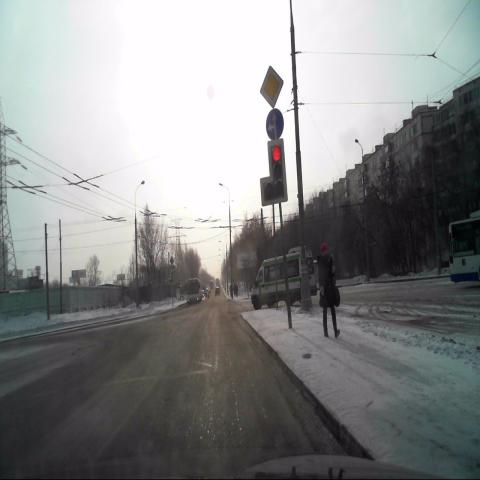4_1_5: (266, 108, 284, 139)
